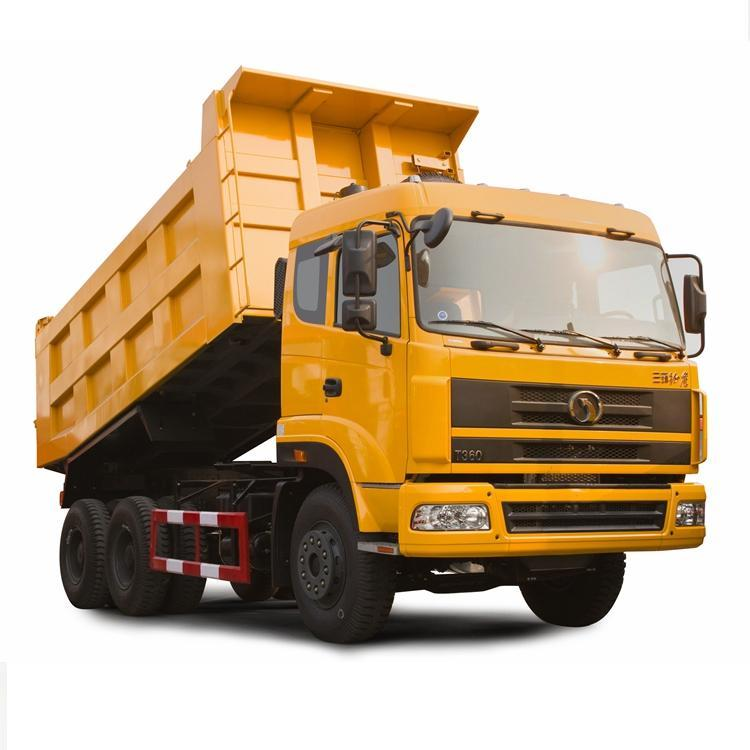truck: (34, 65, 709, 645)
